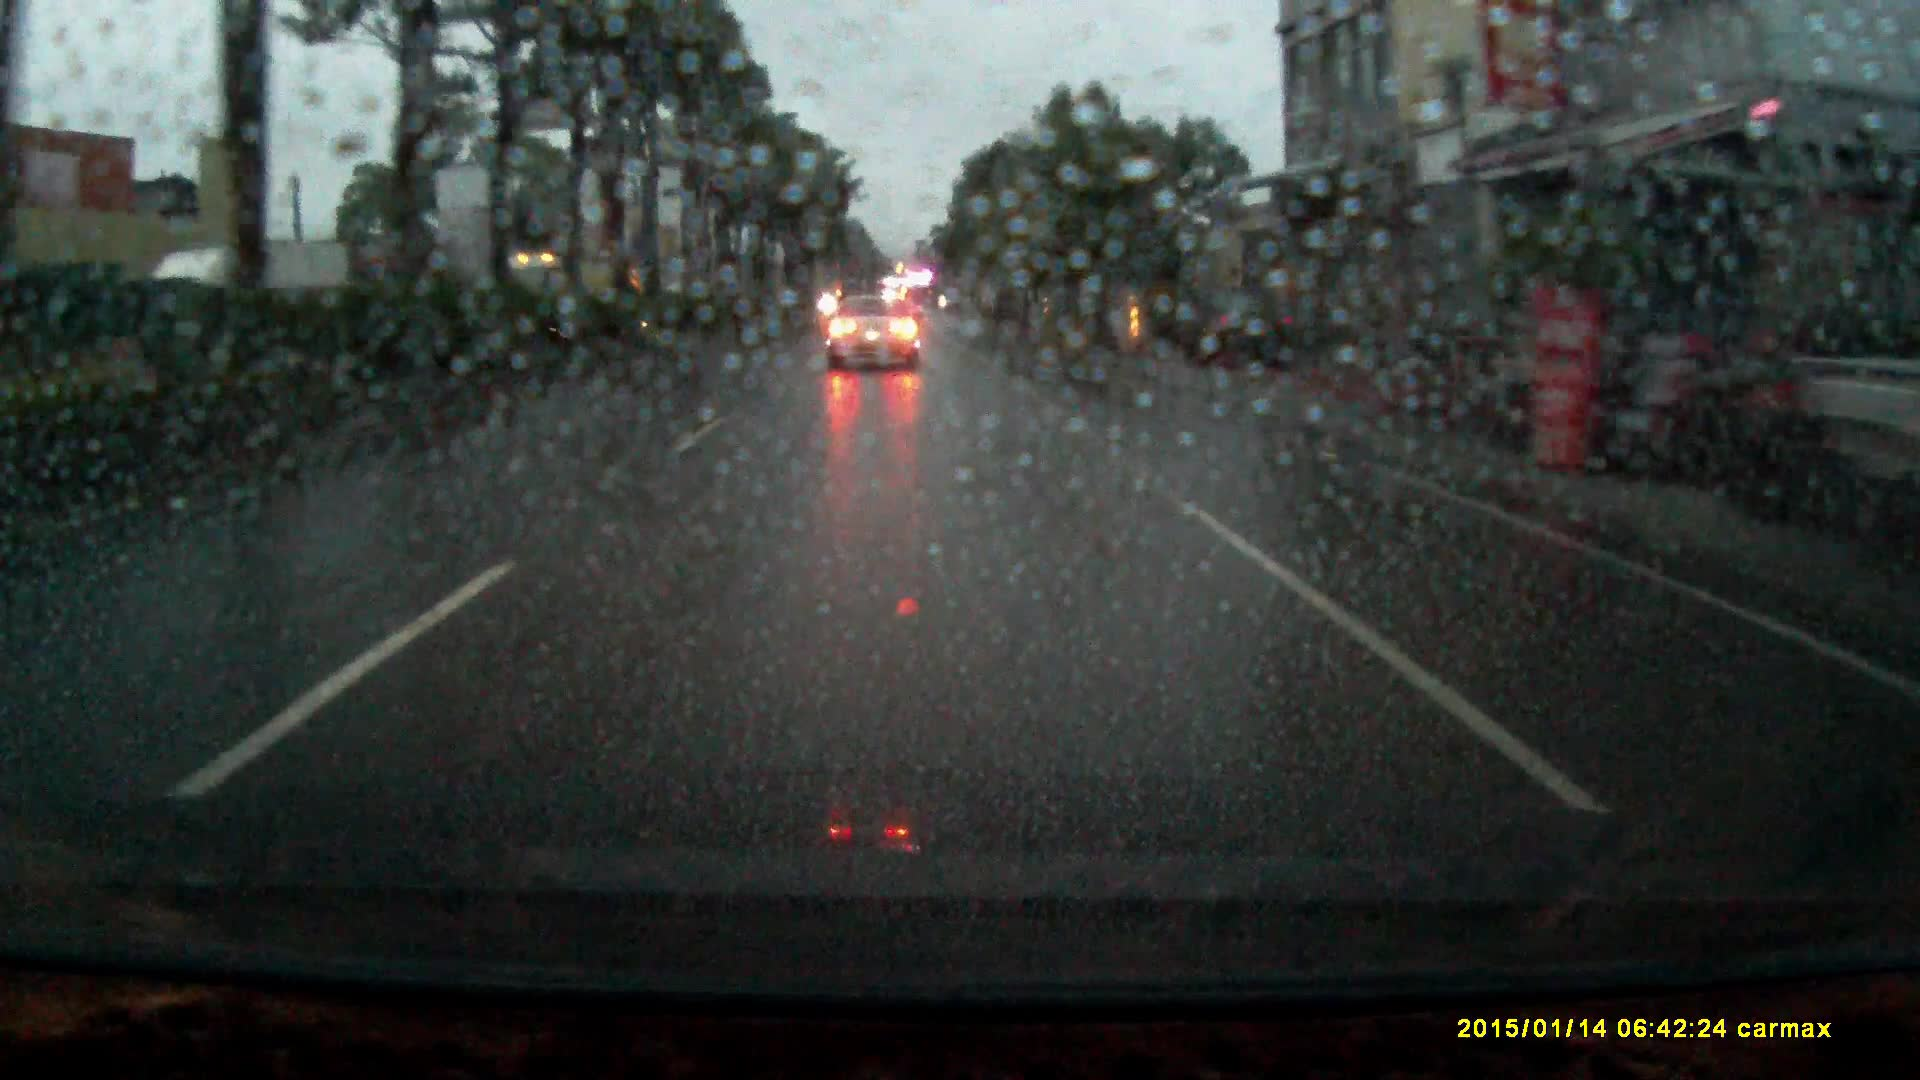vehicle: (145, 239, 353, 378), (1183, 303, 1298, 378), (825, 303, 924, 382), (491, 257, 620, 316)
